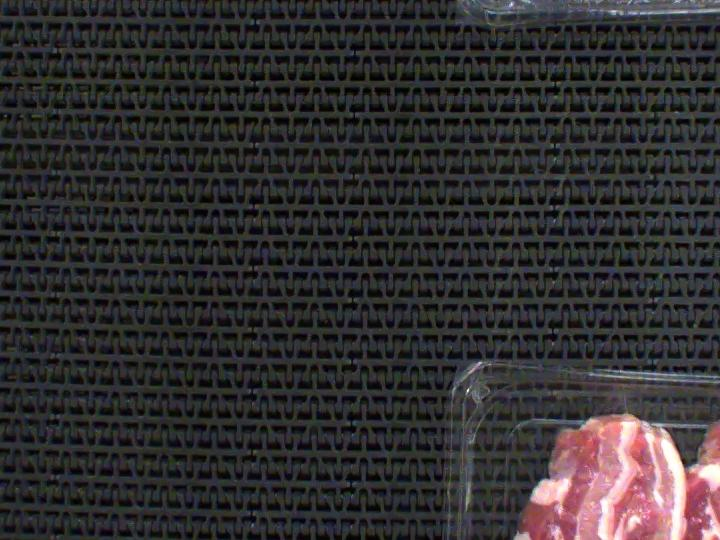packaging-error: (587, 379, 658, 428)
